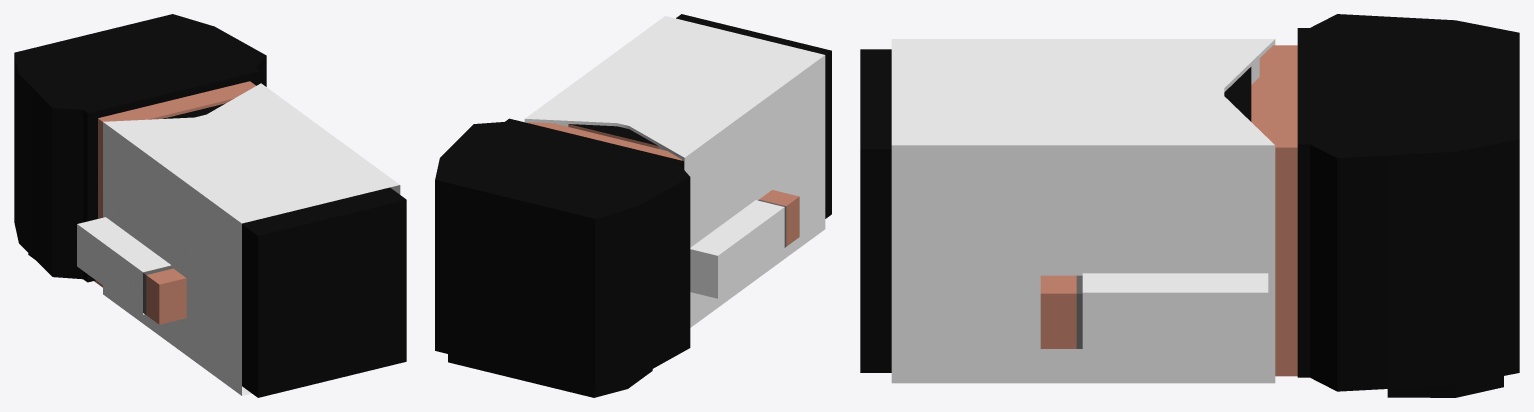
The model's file is SK_Gukwasoo_A01.FBX.
3 renders of one model, left to right at view 1: azimuth 30°, elevation 25°; view 2: azimuth 150°, elevation 25°; view 3: azimuth 270°, elevation 25°, orthographic. The views are drawn at different scales.
Visible parts, largest first — view 1: Object017; view 2: Object017; view 3: Object017.
Boxes of the visible parts, left/top/right/bottom form: Object017: left=14, top=14, right=406, bottom=397; Object017: left=435, top=14, right=831, bottom=397; Object017: left=860, top=14, right=1519, bottom=397.
Bounding box in the file's own units: 23.16 × 19.29 × 44.18.
